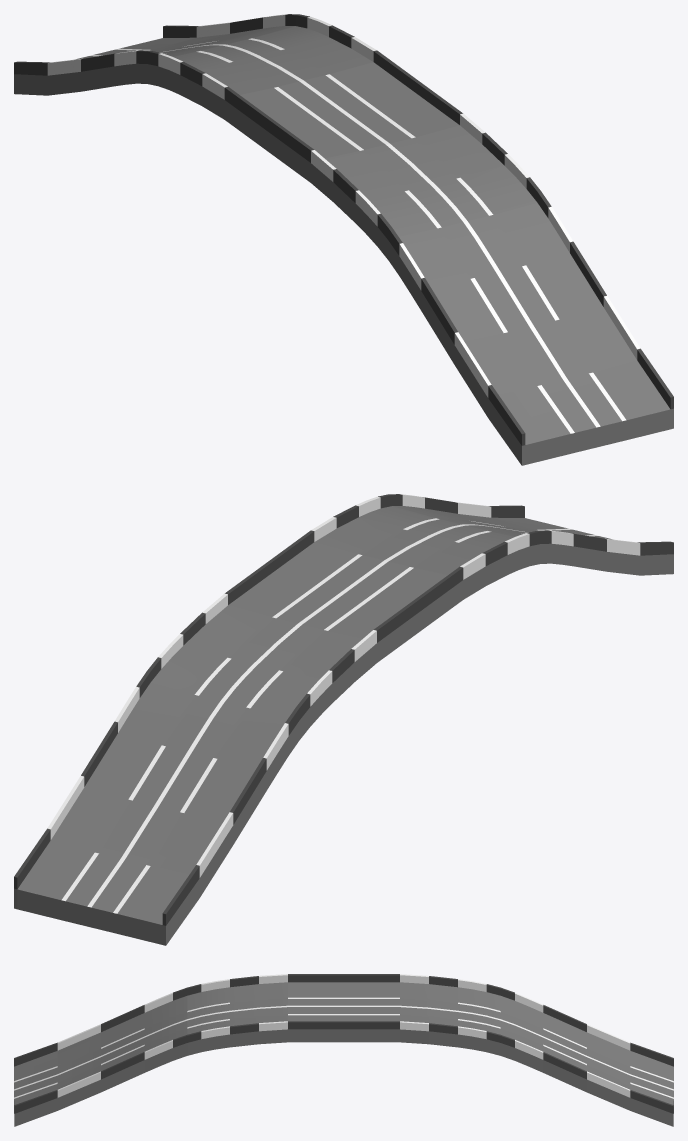
File: SM_Road_P7.fbx
The picture shows the model from 3 angles, top to bottom: view 1: azimuth 30°, elevation 25°; view 2: azimuth 150°, elevation 25°; view 3: azimuth 270°, elevation 25°; orthographic projection. The views are drawn at different scales.
Parts seen in each view (by area): view 1: SM_Road_P7; view 2: SM_Road_P7; view 3: SM_Road_P7.
Boxes of the visible parts, left/top/right/bottom form: SM_Road_P7: left=14, top=14, right=673, bottom=465; SM_Road_P7: left=14, top=494, right=673, bottom=945; SM_Road_P7: left=14, top=974, right=673, bottom=1126.
Size of the model in its own units: 1604 by 1617 by 9251.
